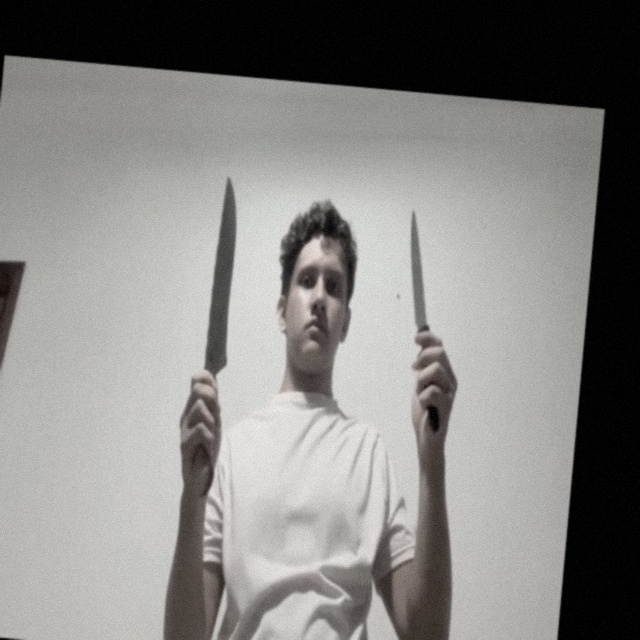Sharp-Object: (202, 173, 243, 375), (401, 208, 436, 327)
